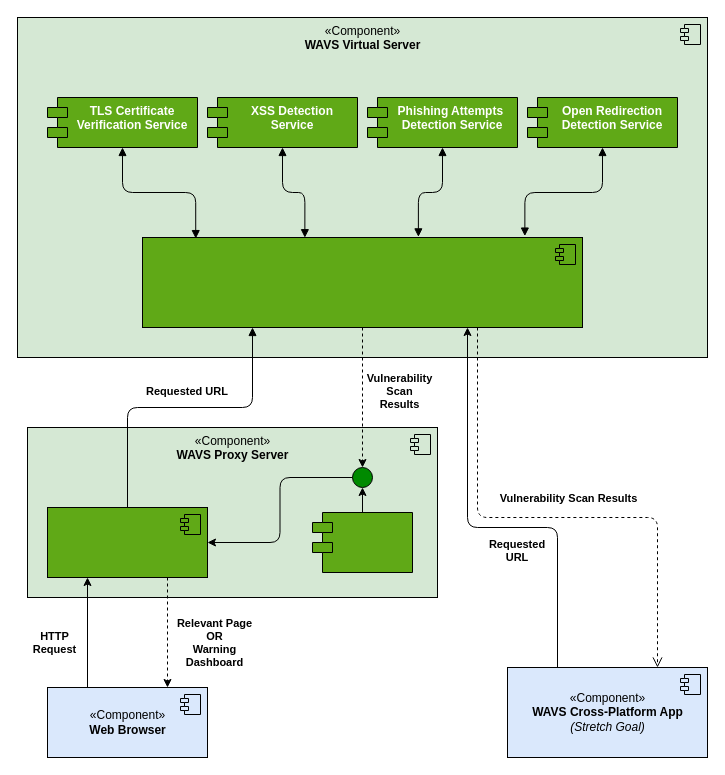
This 725x775 diagram has some shape labels left out. The shapes that lost their labels are listed below. From the top down, each one's centre as x and y in pixels, then its label:
At pixel 362 282: "«Component» RESTful API".
At pixel 127 542: "«Component» Request Interceptor".
At pixel 362 542: "HTML Dashboard Template".
